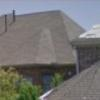chimneys: (4, 14, 8, 33), (12, 10, 16, 22)
